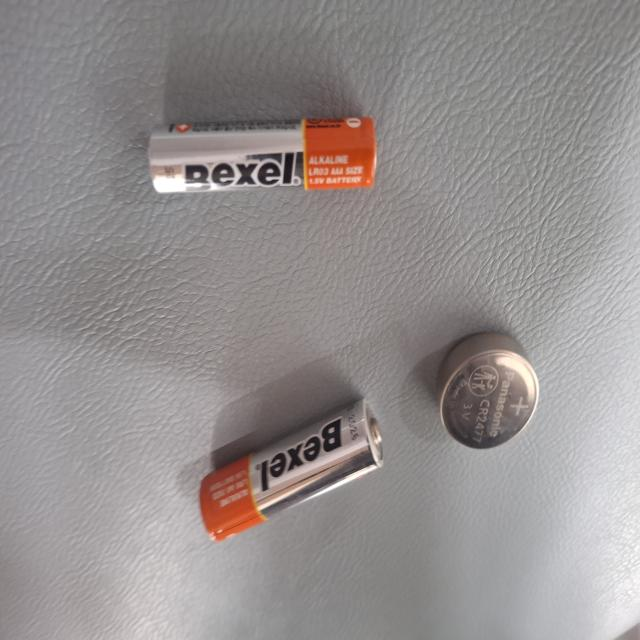AA: (256, 98, 440, 241)
AAA: (261, 446, 494, 524)
COIN: (99, 187, 205, 307)
